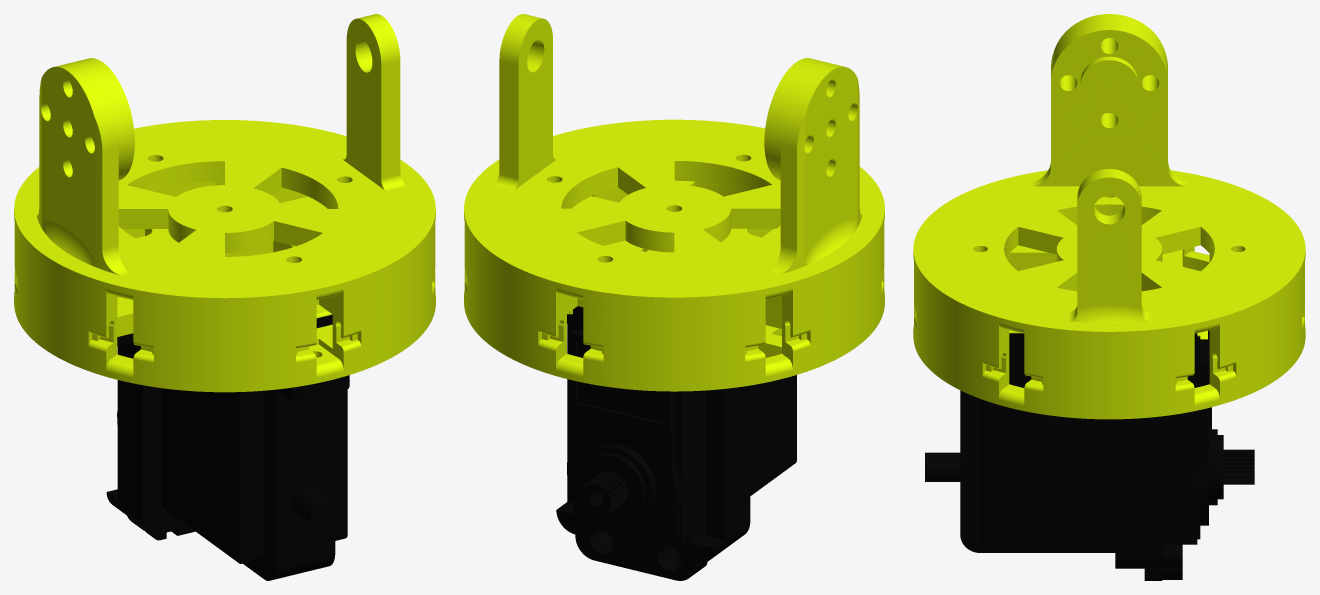
The model's file is module_left.dae.
The picture shows the model from 3 angles, left to right: view 1: azimuth 30°, elevation 25°; view 2: azimuth 150°, elevation 25°; view 3: azimuth 270°, elevation 25°; orthographic projection. The views are drawn at different scales.
Visible parts, largest first — view 1: Module_Left; view 2: Module_Left; view 3: Module_Left.
Boxes of the visible parts, bbox=[...] form: Module_Left: bbox=[14, 14, 435, 580]; Module_Left: bbox=[464, 14, 884, 580]; Module_Left: bbox=[913, 14, 1305, 580].
Size of the model in its own units: 0.067 by 0.067 by 0.0894.
